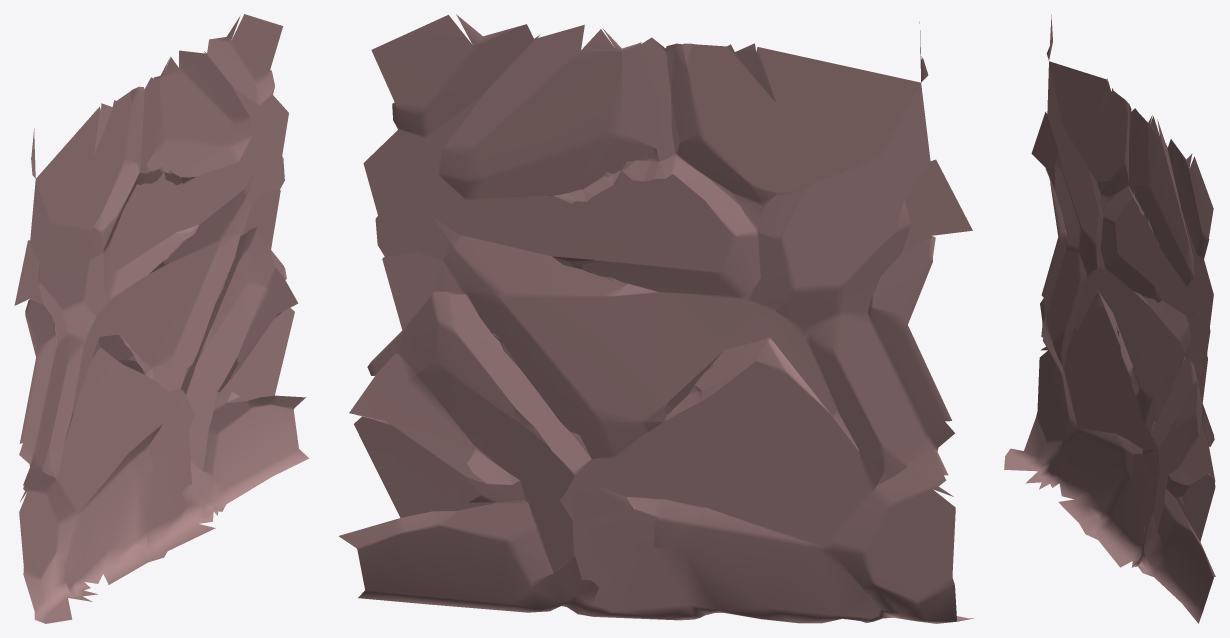
The model's file is canyon.fbx_PolyShape__3__012LODs.fbx.
3 views of the same model, side by side, from view 1: azimuth 30°, elevation 25°; view 2: azimuth 150°, elevation 25°; view 3: azimuth 270°, elevation 25° (orthographic). The views are drawn at different scales.
Visible parts, largest first — view 1: PolyShape (3).012_LOD0; view 2: PolyShape (3).012_LOD0; view 3: PolyShape (3).012_LOD0.
Boxes of the visible parts, x1,y1,x2,y2 form: PolyShape (3).012_LOD0: [14, 14, 309, 623]; PolyShape (3).012_LOD0: [338, 14, 973, 623]; PolyShape (3).012_LOD0: [1004, 14, 1215, 623].
Size of what is drawn, in the model's own units: 2999 by 3532 by 1496.
